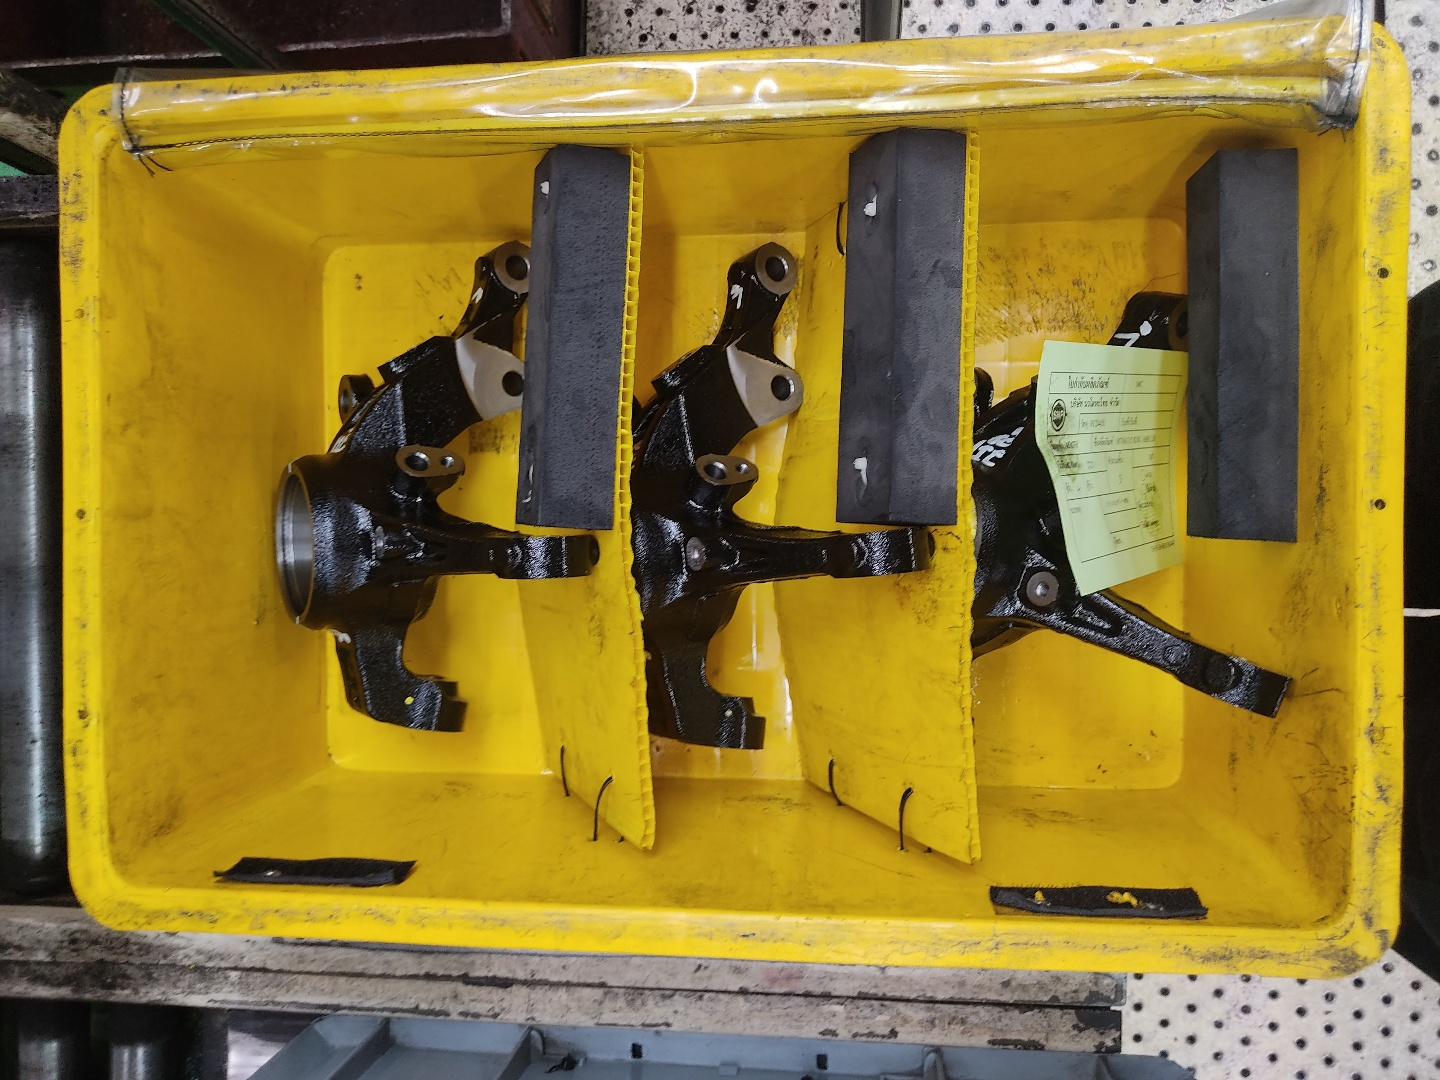abs-lh: (957, 228, 1301, 757), (262, 233, 605, 756), (610, 233, 942, 760)
